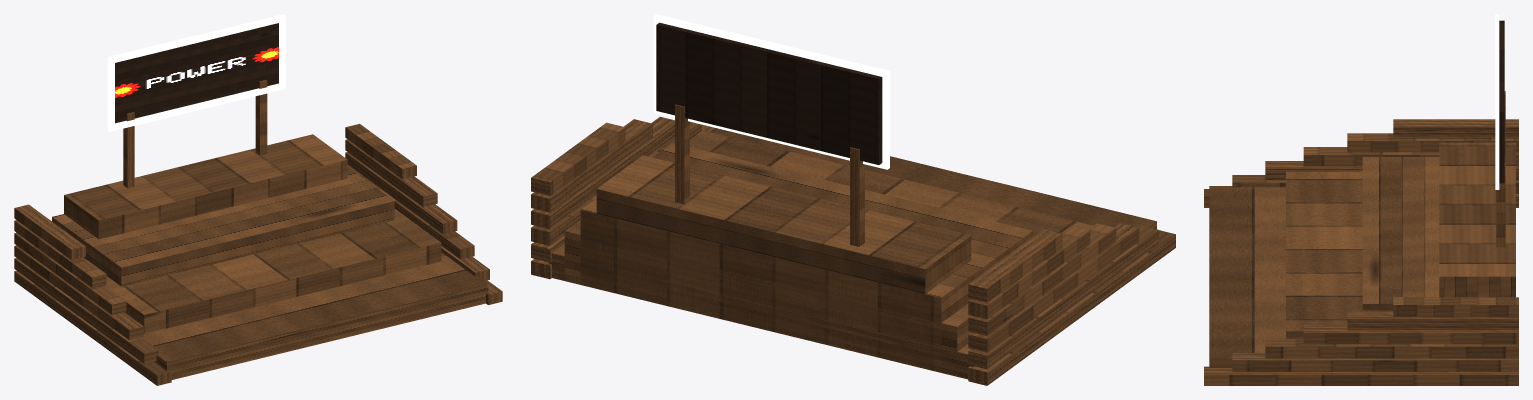
Rendered from power_riser.glb.
The picture shows the model from 3 angles, left to right: view 1: azimuth 30°, elevation 25°; view 2: azimuth 150°, elevation 25°; view 3: azimuth 270°, elevation 25°; orthographic projection. The views are drawn at different scales.
Visible parts, largest first — view 1: power_riser; view 2: power_riser; view 3: power_riser.
Part boxes in pixels (x1,y1,x2,y2): power_riser: (14,14,502,385); power_riser: (531,14,1175,385); power_riser: (1204,14,1518,385).
Size of the model in its own units: 8.6 by 5 by 6.16.
1 material, 1 textured.
